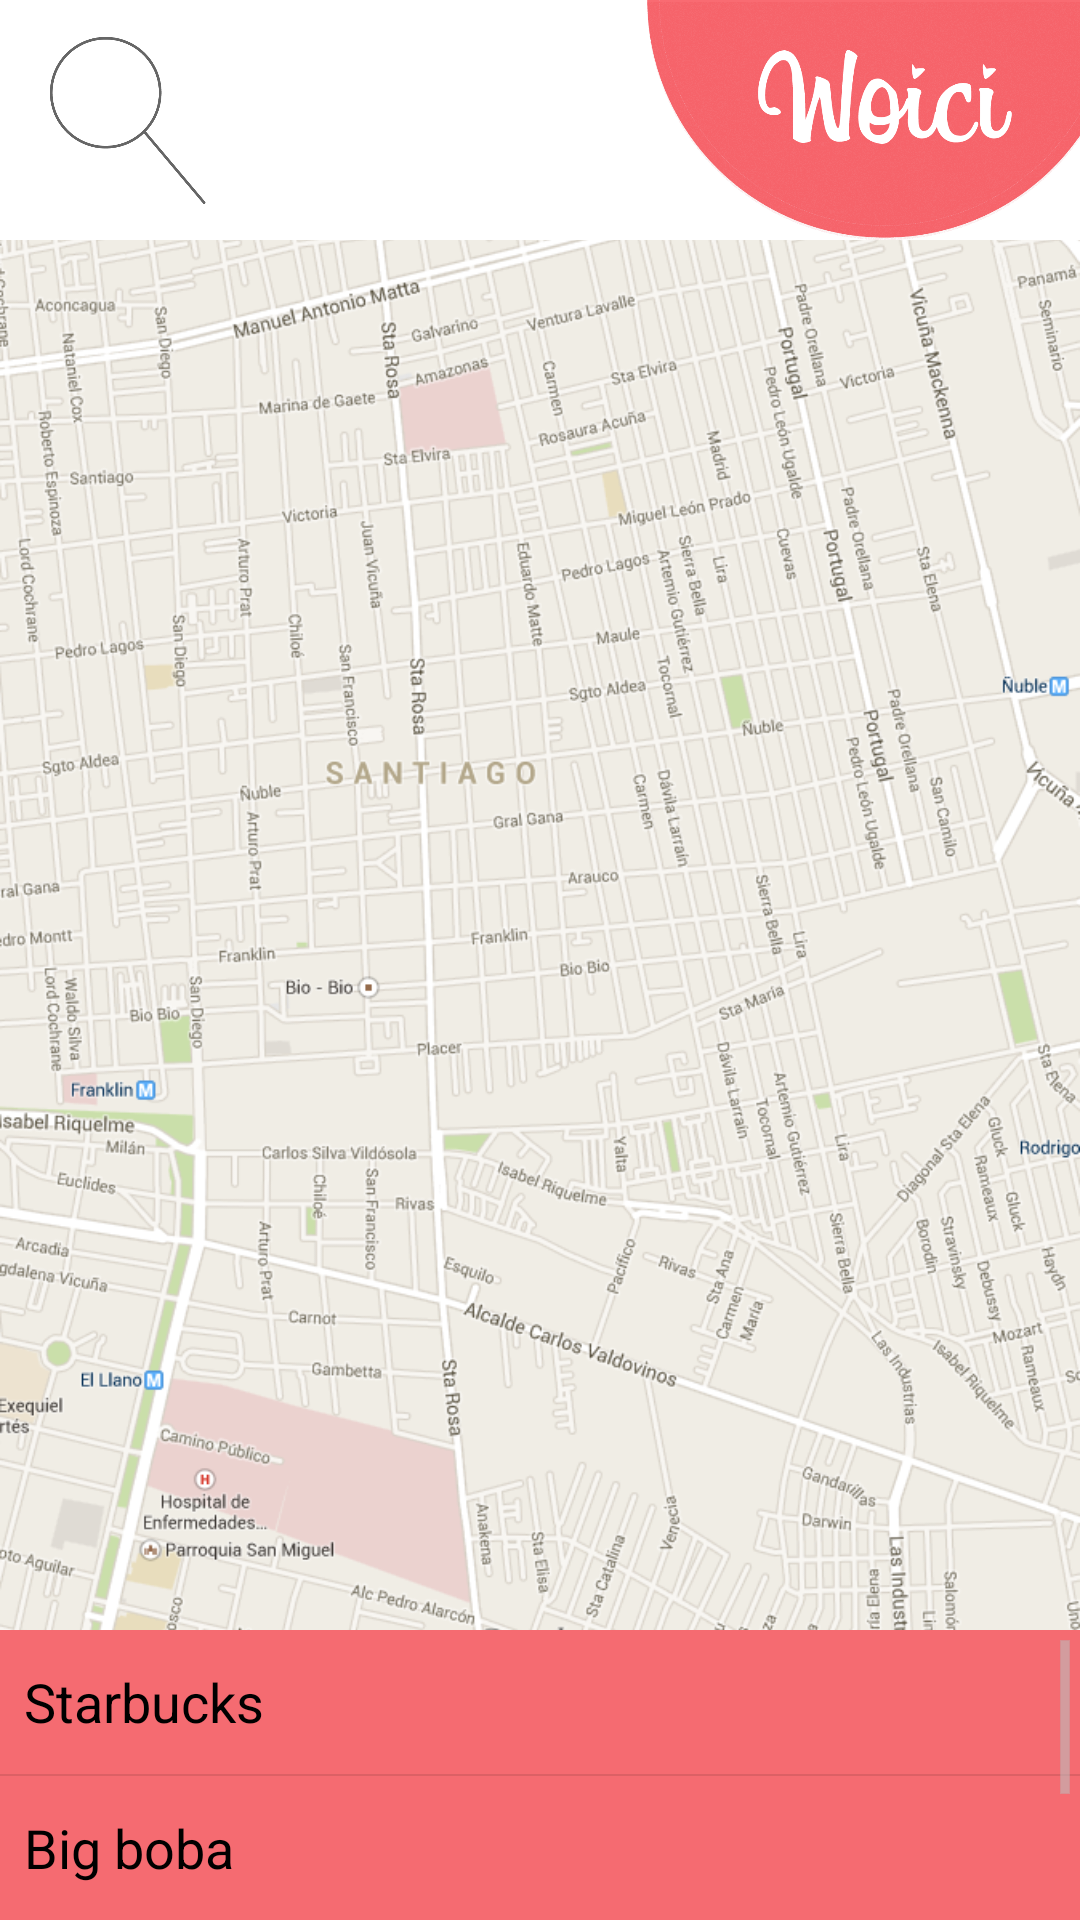

Icon click points for this 1080*1920 phone screenshot, format (x=x, y=y):
lupa: (x=128, y=120)
